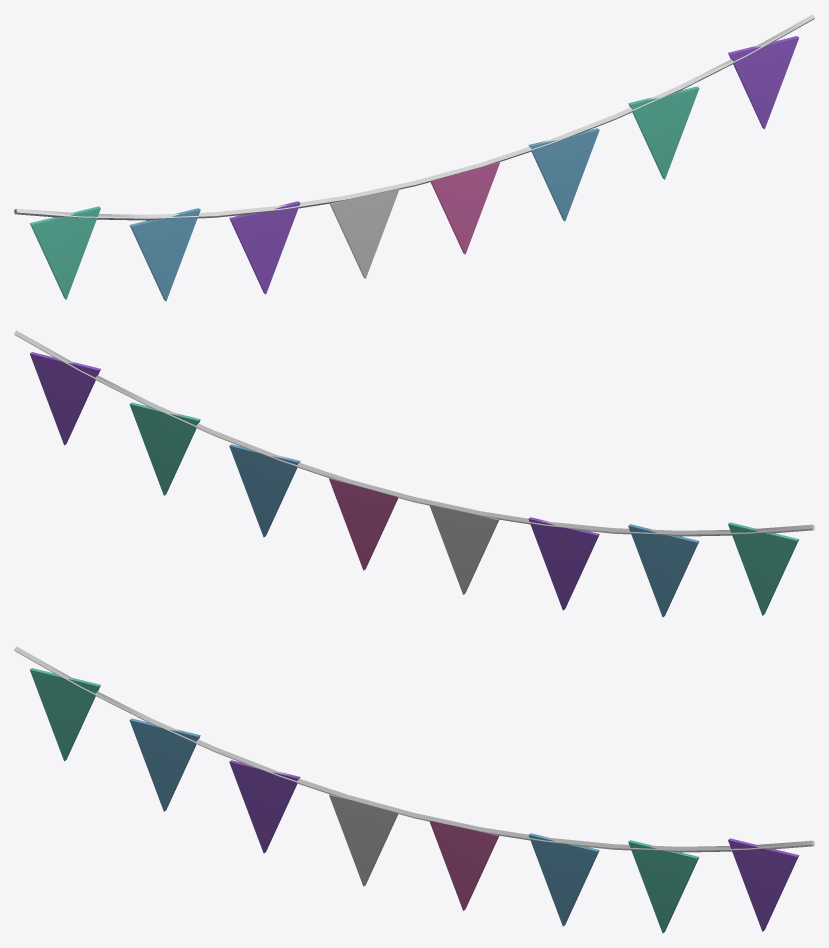
File: bunting.glb
3 renders of one model, top to bottom at view 1: azimuth 30°, elevation 25°; view 2: azimuth 150°, elevation 25°; view 3: azimuth 330°, elevation 25°, orthographic.
Visible parts, largest first — view 1: bunting; view 2: bunting; view 3: bunting.
Boxes of the visible parts, x1,y1,x2,y2 form: bunting: (14,14,814,301); bunting: (14,330,814,617); bunting: (14,646,814,933).
Bounding box in the file's own units: 6.01 × 1.11 × 0.04.
